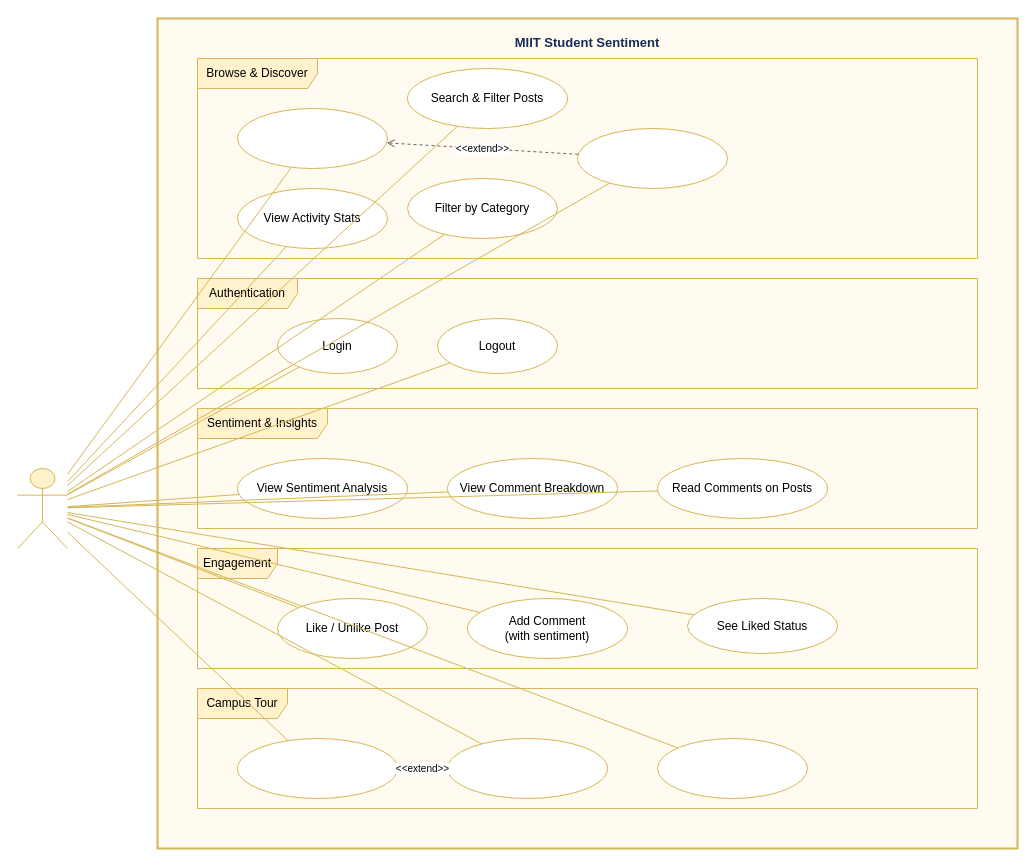
This 1036x866 diagram has some shape labels left out. The shapes that lost their labels are listed below. From the top down, each one's centre as x and y in pixels, then its label:
At (x=312, y=138): "Browse Blog Feed".
At (x=652, y=158): "View Post Details".
At (x=42, y=508): "Student (USER)".
At (x=317, y=768): "Explore Campus Tour".
At (x=527, y=768): "View 360° Panorama".
At (x=732, y=768): "Browse Tour Stops".
